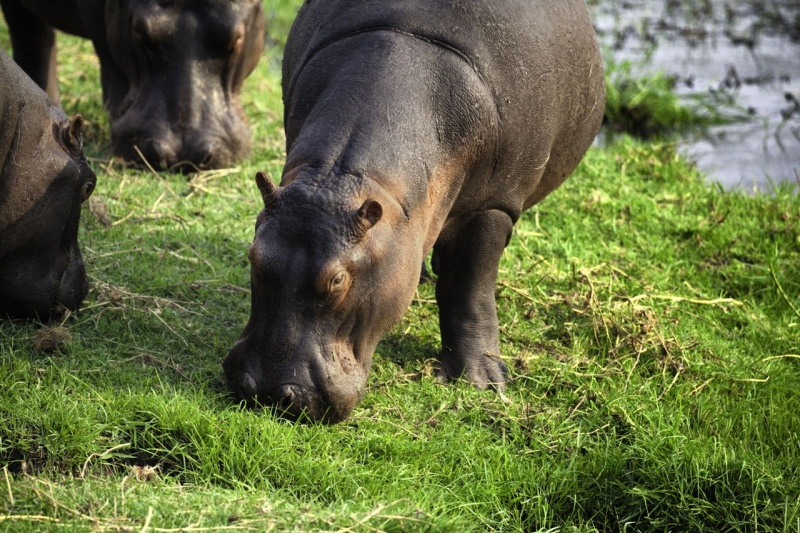hipopotamo: (224, 0, 606, 419)
